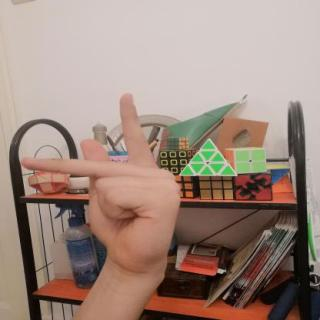DHAA: (9, 85, 192, 282)
